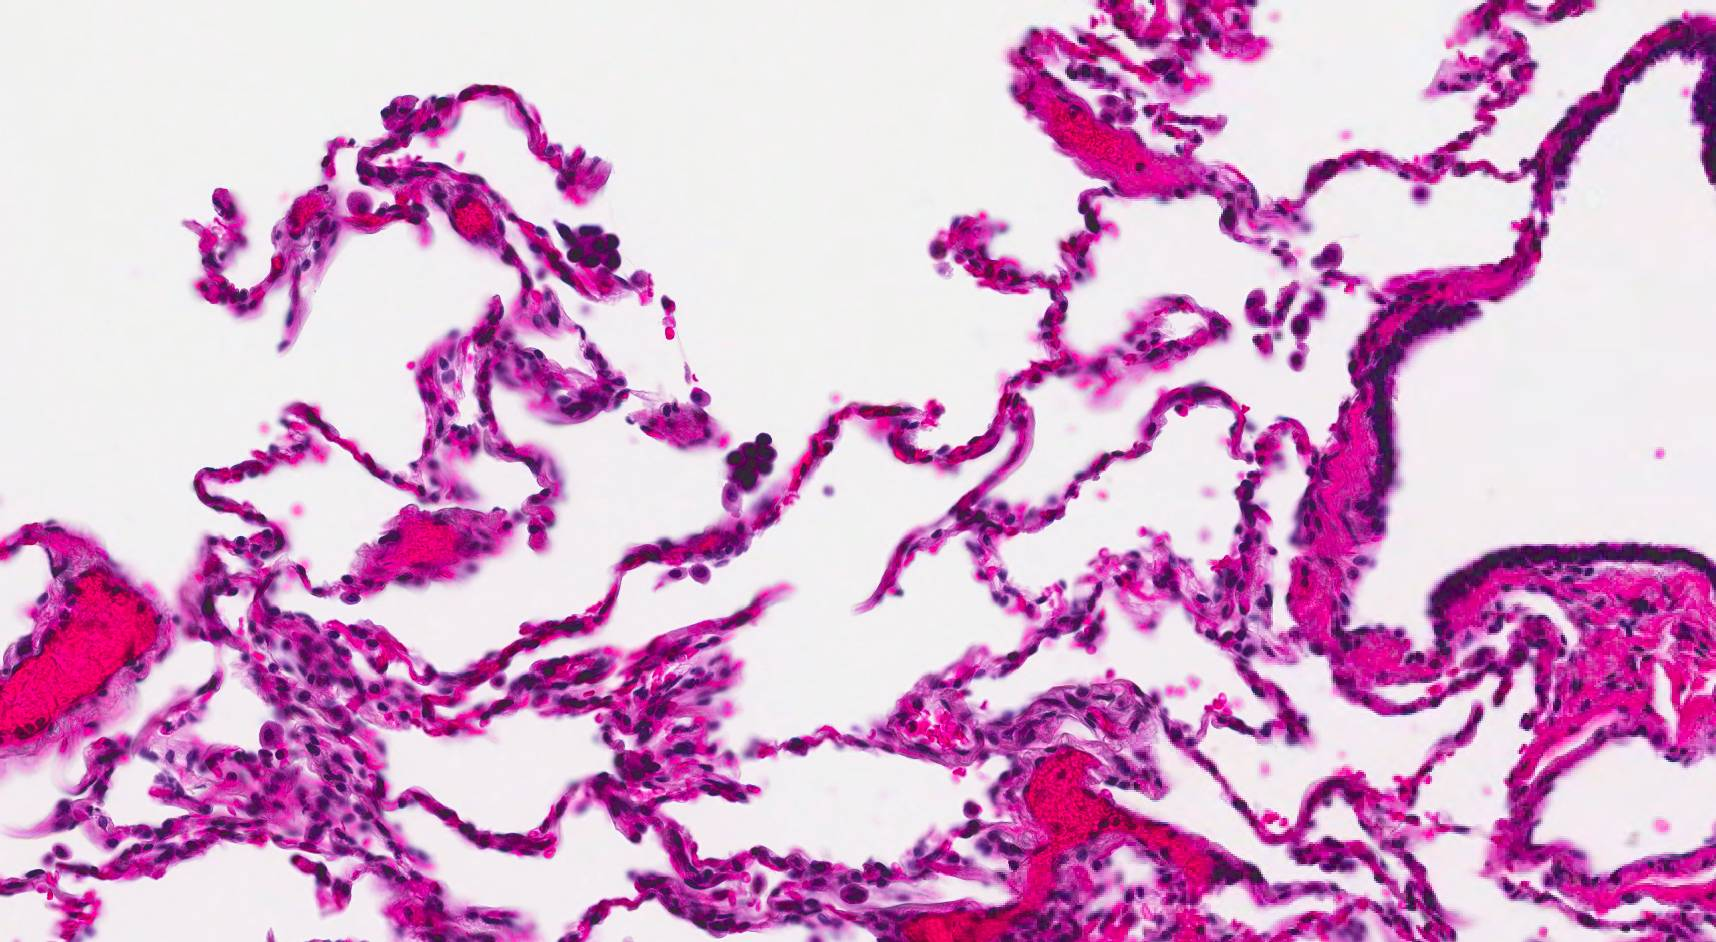stas: (556, 215, 627, 271), (725, 432, 780, 493)
